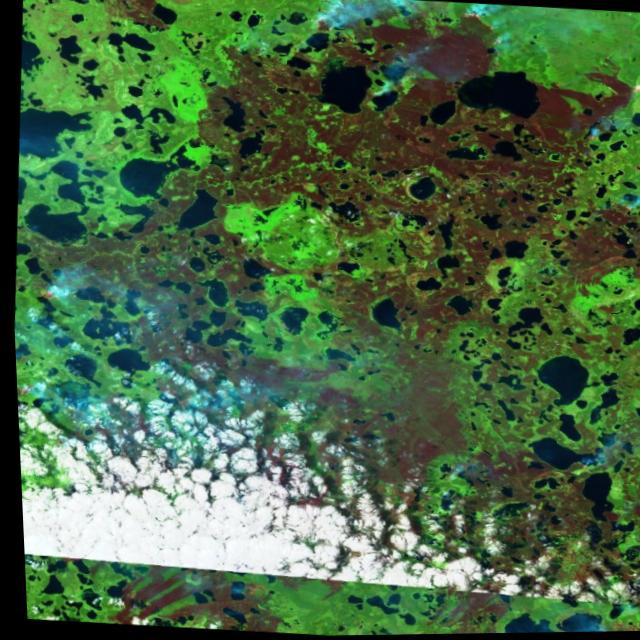fire: (283, 0, 349, 49), (213, 570, 274, 614), (558, 446, 604, 491), (562, 118, 610, 161), (19, 272, 69, 311), (442, 2, 493, 36), (603, 191, 640, 226), (13, 373, 45, 410), (614, 70, 640, 109)
